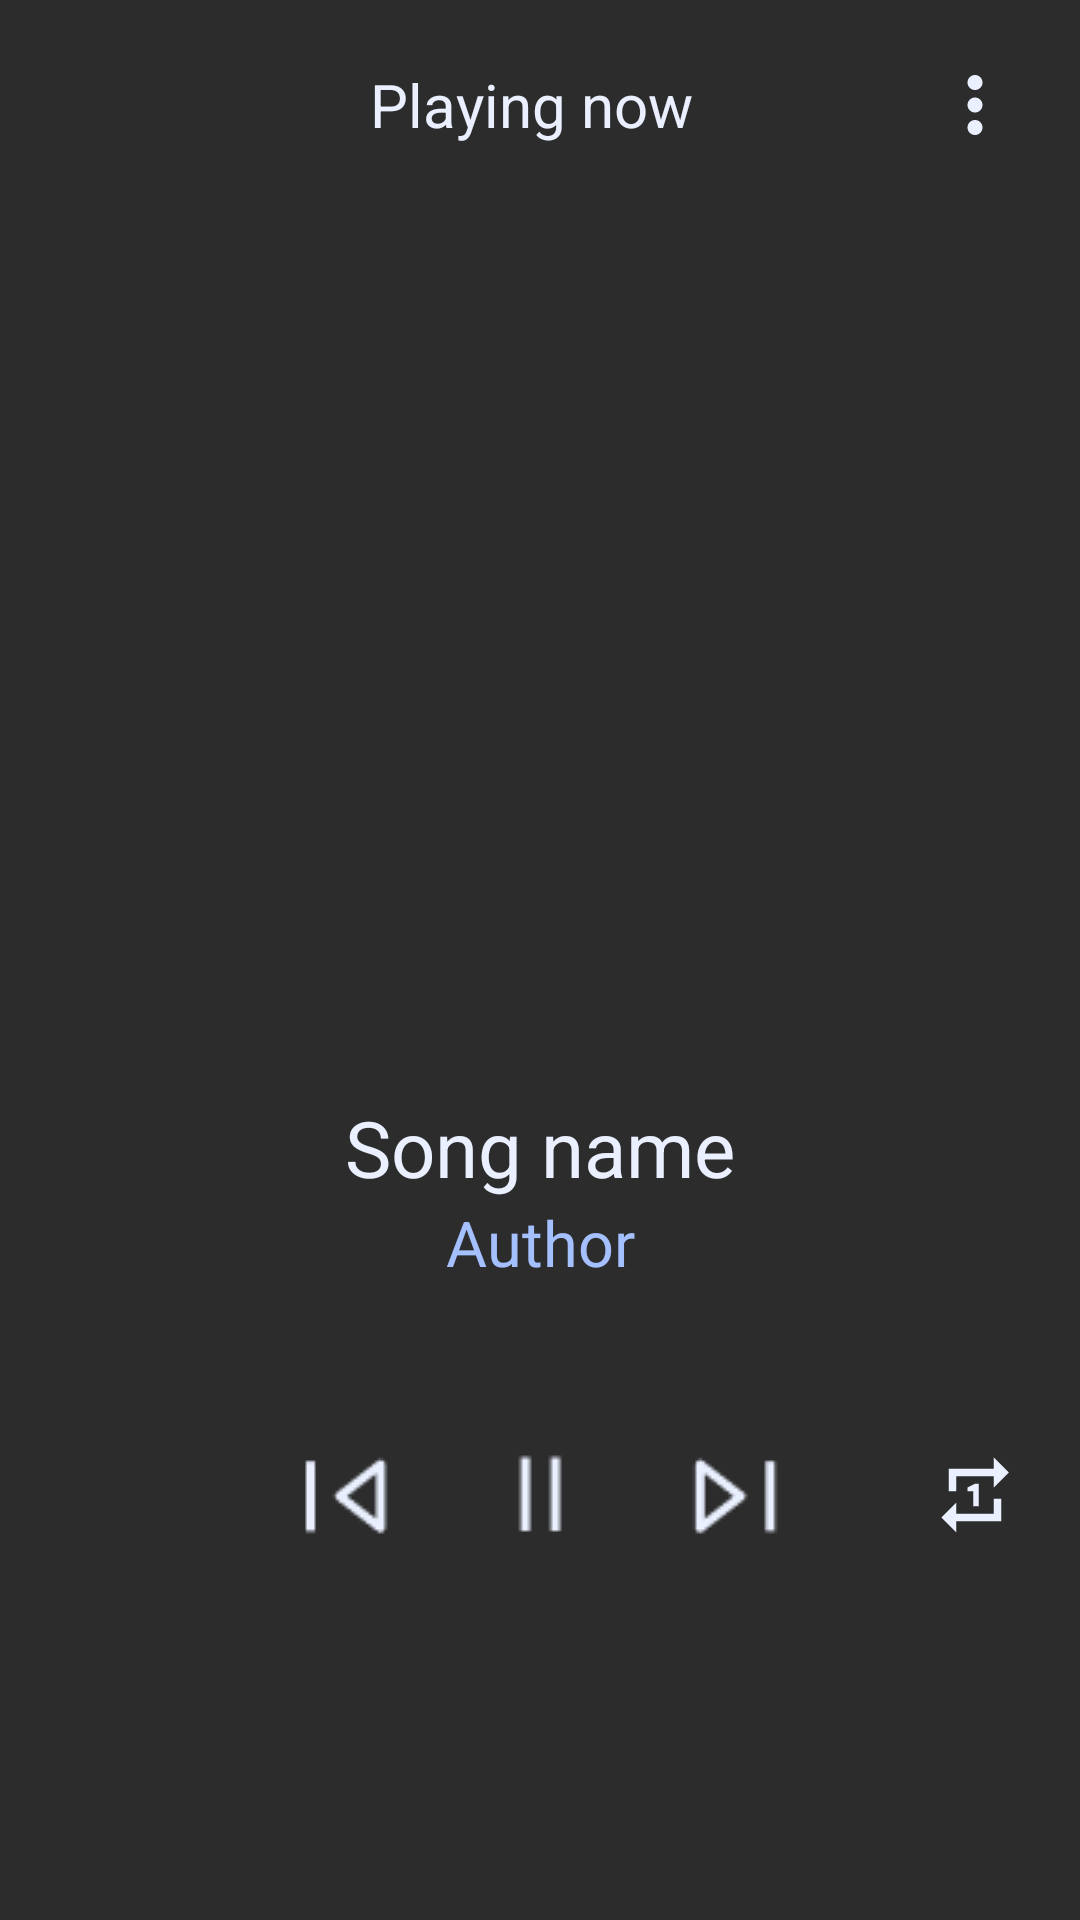

Screen size 1080 x 1920. Icon name, then its center in pixels as (x,y):
music options: (975,105)
next left: (346,1496)
next right: (735,1496)
pause: (540,1493)
repeat: (975,1494)
